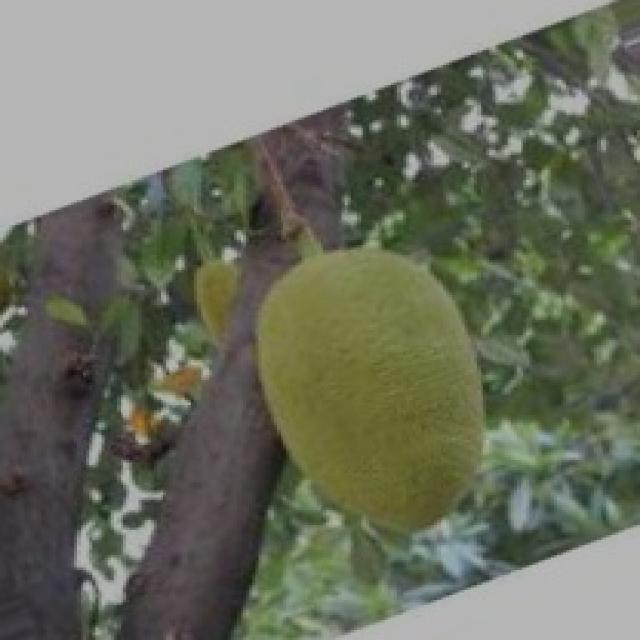Fruit: (210, 208, 532, 570)
